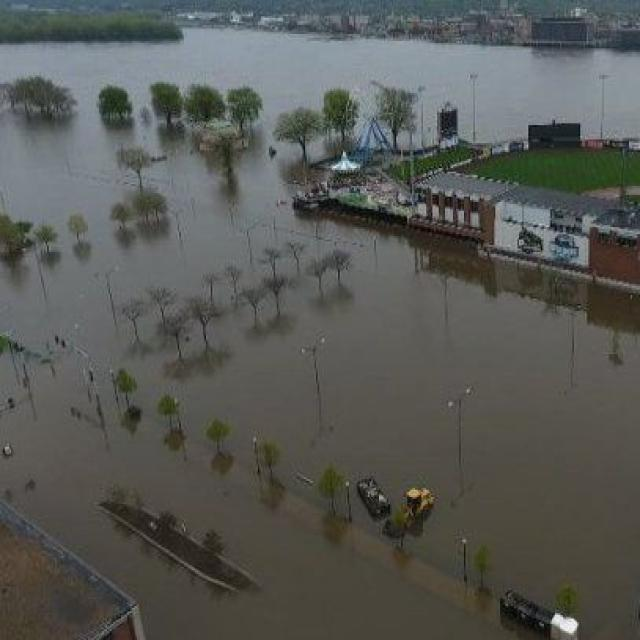flooded_areas: (0, 80, 629, 578)
